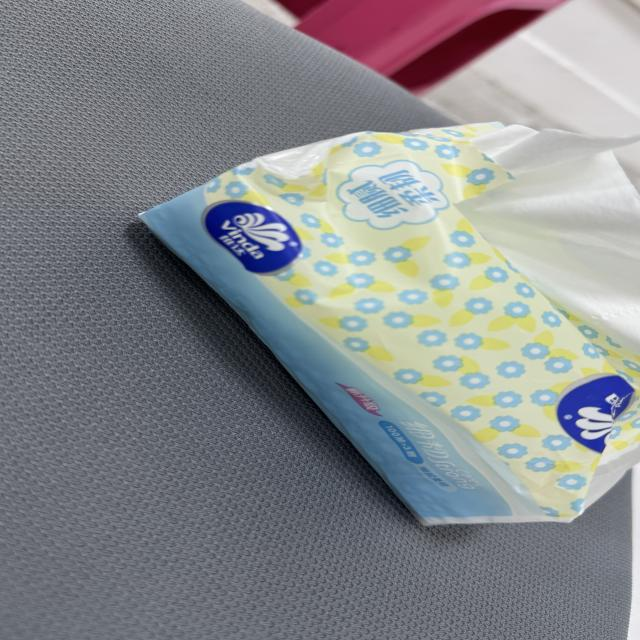tissue: (142, 125, 639, 524)
